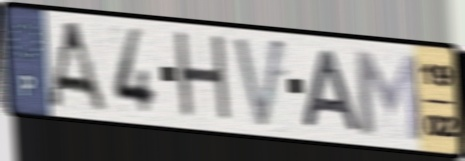4: (110, 24, 159, 120)
A: (45, 19, 110, 116), (300, 47, 365, 136)
H: (171, 28, 236, 129)
M: (350, 46, 426, 145)
V: (230, 34, 288, 135)
